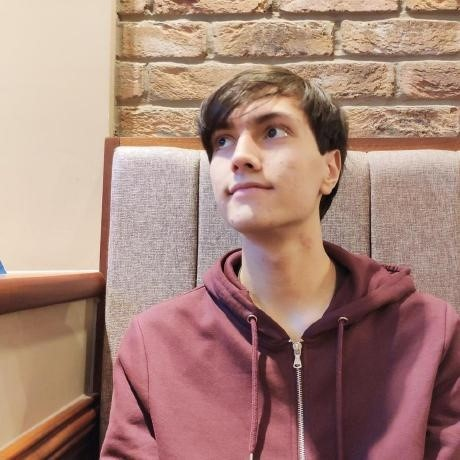face_no_mask: (205, 71, 345, 235)
